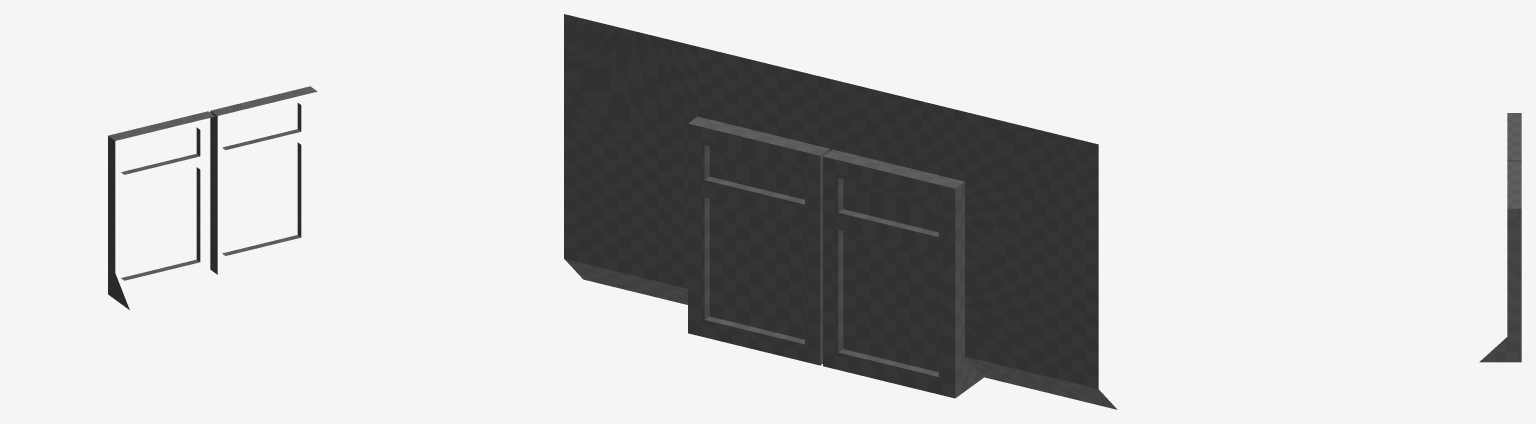
3 views of the same model, side by side, from view 1: azimuth 30°, elevation 25°; view 2: azimuth 150°, elevation 25°; view 3: azimuth 270°, elevation 25° (orthographic). The views are drawn at different scales.
Visible parts, largest first — view 1: 2; view 2: 2; view 3: 2.
Boxes of the visible parts, left/top/right/bottom form: 2: left=108, top=86, right=317, bottom=309; 2: left=564, top=14, right=1117, bottom=409; 2: left=1479, top=113, right=1521, bottom=362.
Bounding box in the file's own units: 4 × 2 × 2.12.
2 materials, 2 textured.
